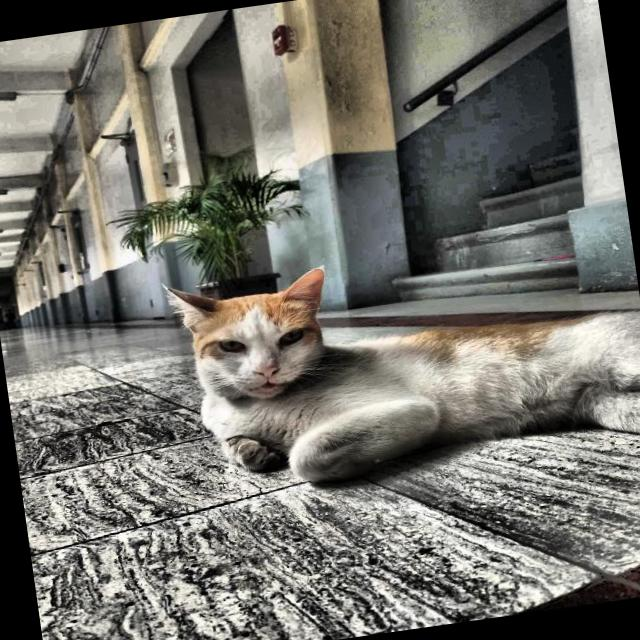Healthy skin: (488, 330, 609, 428), (332, 364, 455, 452)
